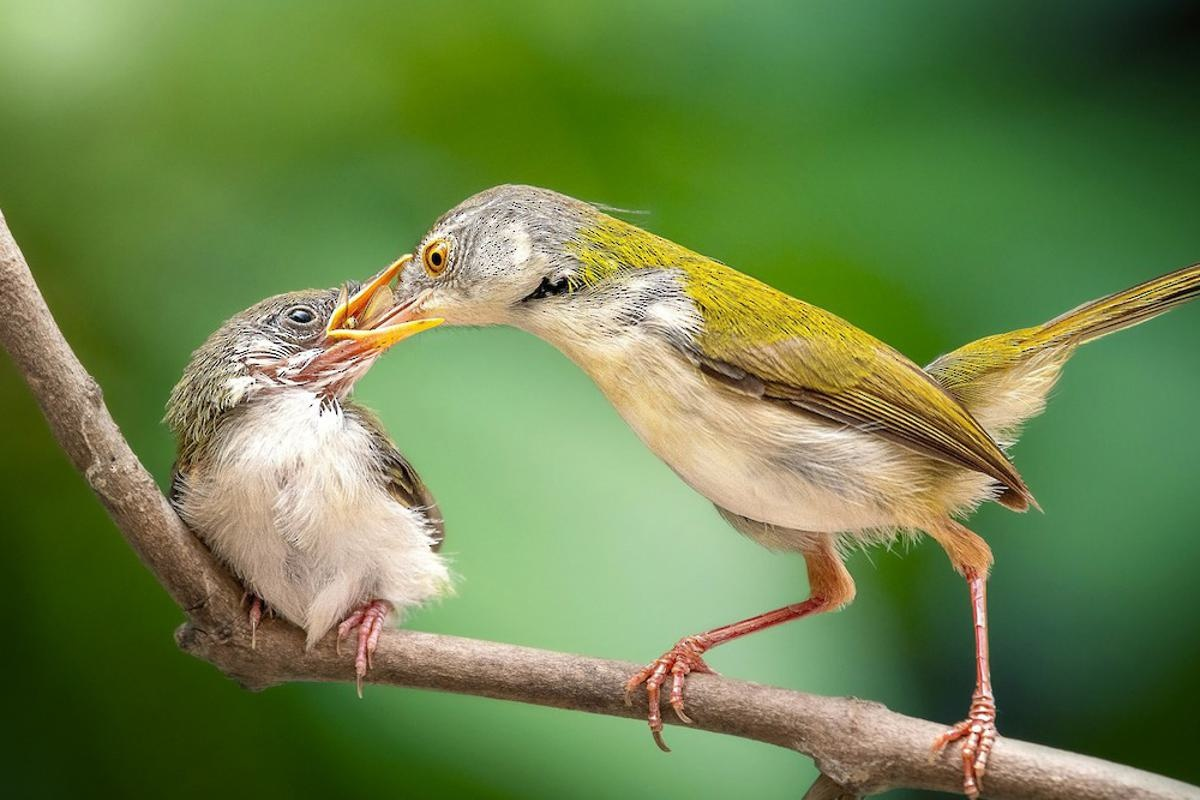tailorbird: (424, 135, 1194, 766), (177, 217, 405, 714)
